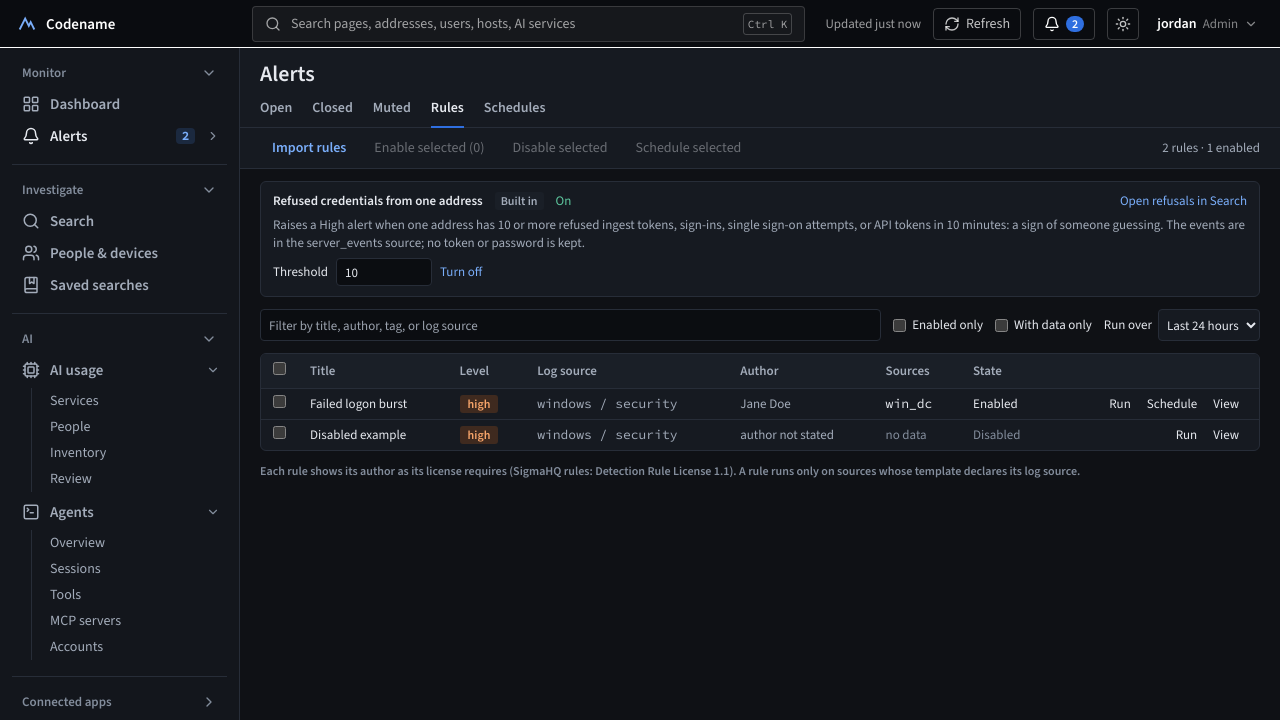
Test: Detection rules › lists rules with their authors, and says when none is stated
Expected: the text "Failed logon burst" is shown, [298,388,448,420]
Expected: the text "Jane Doe" is shown, [728,388,874,420]
Click the checkbox labelled "With data only". click: (1002, 325)
box: [995,318,1008,332]
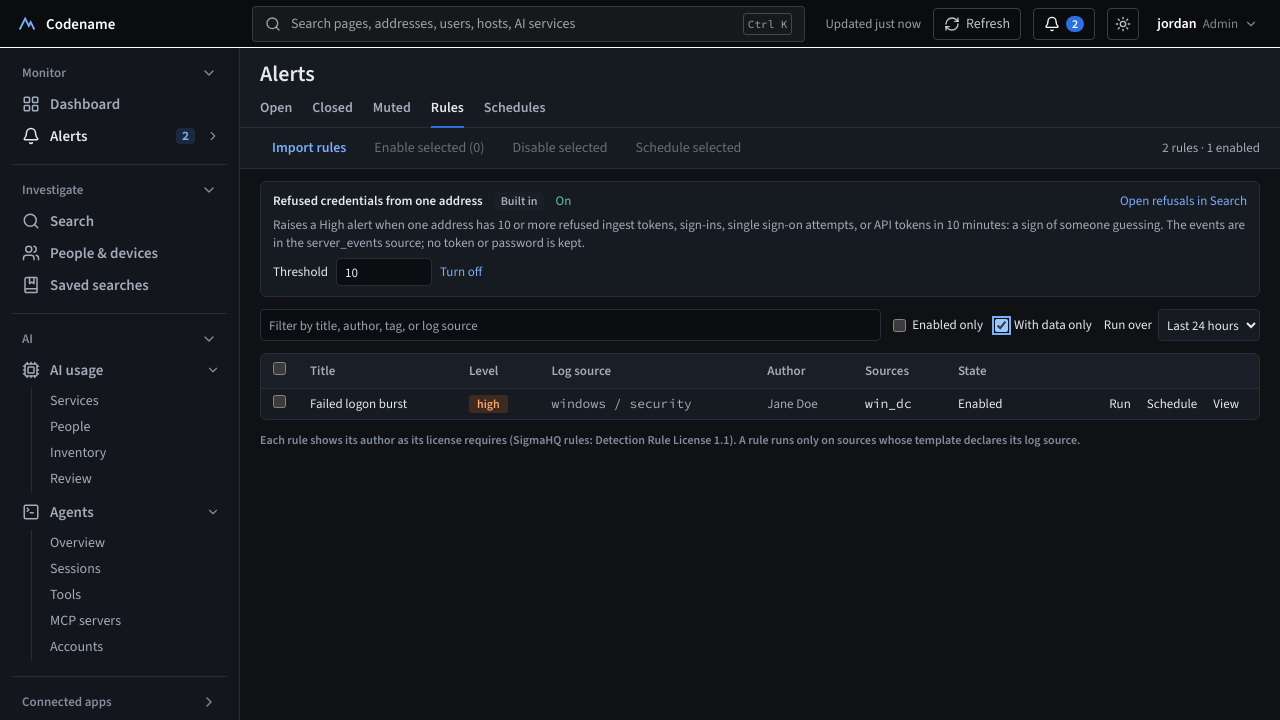
Now the text "Disabled example" is gone
